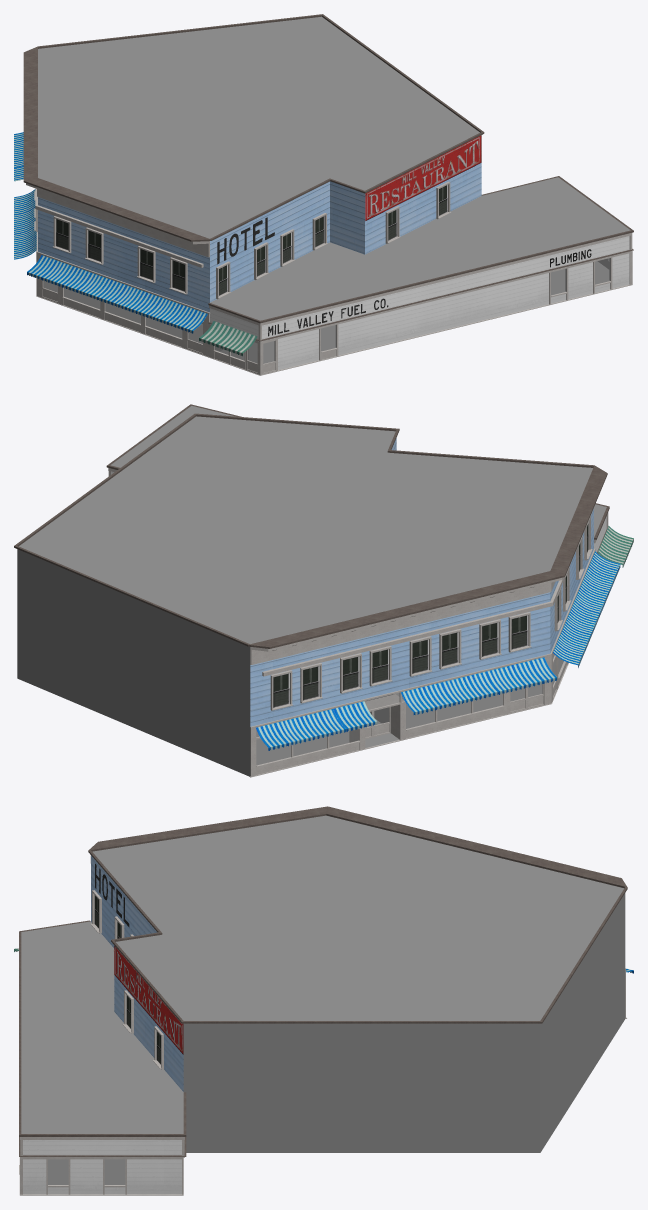
File: Building 5.FBX
3 renders of one model, top to bottom at view 1: azimuth 30°, elevation 25°; view 2: azimuth 150°, elevation 25°; view 3: azimuth 270°, elevation 25°, orthographic. The views are drawn at different scales.
Parts seen in each view (by area): view 1: B5 - DefaultWalls, B5 - Clading 01, B5 - Clading 02, B5 - Wood_Frames, B5 - Wood_Dark, B5 - Shade, B5 - Logos, B5 - Windows, B5 - Window Glass, B5 - Shade_1; view 2: B5 - DefaultWalls, B5 - Wood_Frames, B5 - Clading 01, B5 - Shade, B5 - Wood_Dark, B5 - Windows, B5 - Window Glass, B5 - Shade_1; view 3: B5 - DefaultWalls, B5 - Wood_Dark, B5 - Clading 02, B5 - Clading 01, B5 - Wood_Frames, B5 - Logos, B5 - Window Glass.
Boxes of the visible parts, bbox=[...] form: B5 - DefaultWalls: bbox=[38, 16, 630, 363]; B5 - Clading 01: bbox=[38, 163, 481, 312]; B5 - Clading 02: bbox=[210, 236, 629, 369]; B5 - Wood_Frames: bbox=[26, 181, 632, 375]; B5 - Wood_Dark: bbox=[23, 14, 633, 341]; B5 - Shade: bbox=[14, 132, 207, 333]; B5 - Logos: bbox=[217, 135, 591, 336]; B5 - Windows: bbox=[56, 185, 447, 295]; B5 - Window Glass: bbox=[43, 258, 610, 363]; B5 - Shade_1: bbox=[199, 321, 257, 356]; B5 - DefaultWalls: bbox=[17, 406, 606, 776]; B5 - Wood_Frames: bbox=[108, 468, 608, 777]; B5 - Clading 01: bbox=[250, 438, 593, 726]; B5 - Shade: bbox=[256, 551, 620, 750]; B5 - Wood_Dark: bbox=[14, 404, 609, 648]; B5 - Windows: bbox=[273, 523, 588, 707]; B5 - Window Glass: bbox=[256, 556, 601, 765]; B5 - Shade_1: bbox=[597, 526, 633, 567]; B5 - DefaultWalls: bbox=[21, 815, 625, 1184]; B5 - Wood_Dark: bbox=[19, 806, 627, 1156]; B5 - Clading 02: bbox=[23, 1140, 181, 1194]; B5 - Clading 01: bbox=[91, 855, 183, 1091]; B5 - Wood_Frames: bbox=[19, 855, 626, 1195]; B5 - Logos: bbox=[95, 863, 183, 1054]; B5 - Window Glass: bbox=[48, 1159, 125, 1184].
Bounding box in the file's own units: 31.99 × 32.28 × 7.6.
10 materials, 8 textured.
